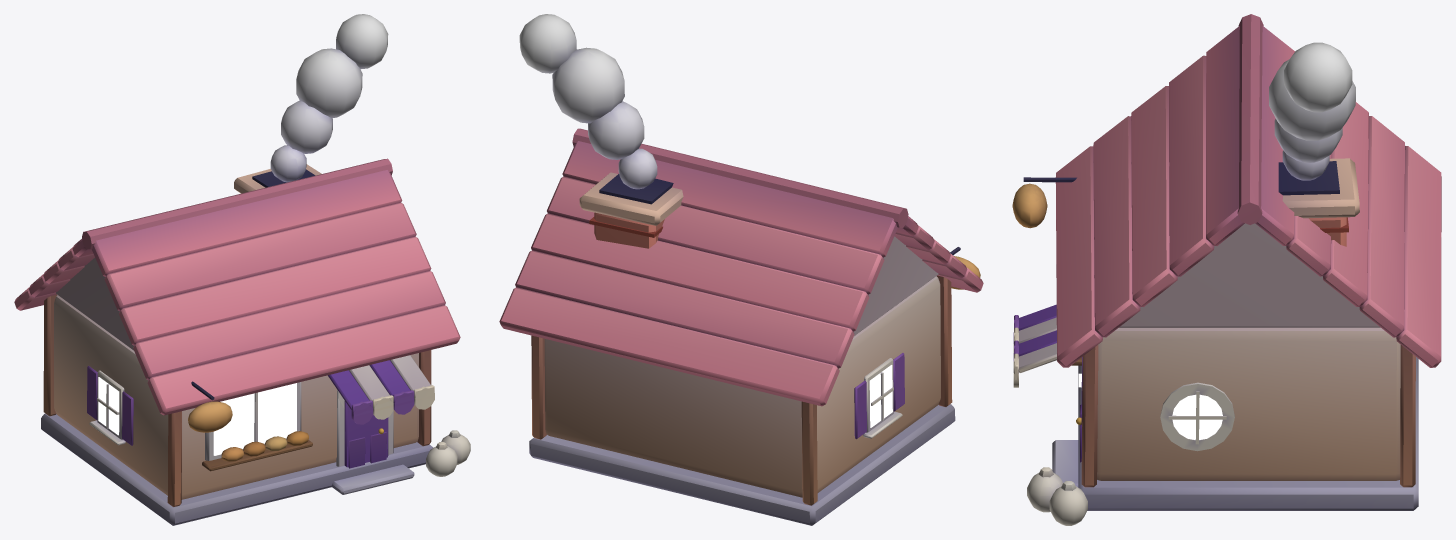
Rendered from common_town_bakery.glb.
3 renders of one model, left to right at view 1: azimuth 30°, elevation 25°; view 2: azimuth 150°, elevation 25°; view 3: azimuth 270°, elevation 25°, orthographic. The views are drawn at different scales.
Parts seen in each view (by area): view 1: common_town_bakery; view 2: common_town_bakery; view 3: common_town_bakery.
Boxes of the visible parts, x1,y1,x2,y2 form: common_town_bakery: [14, 14, 470, 525]; common_town_bakery: [499, 14, 983, 525]; common_town_bakery: [1012, 14, 1441, 525].
Size of the model in its own units: 7.47 by 8.27 by 6.68.
